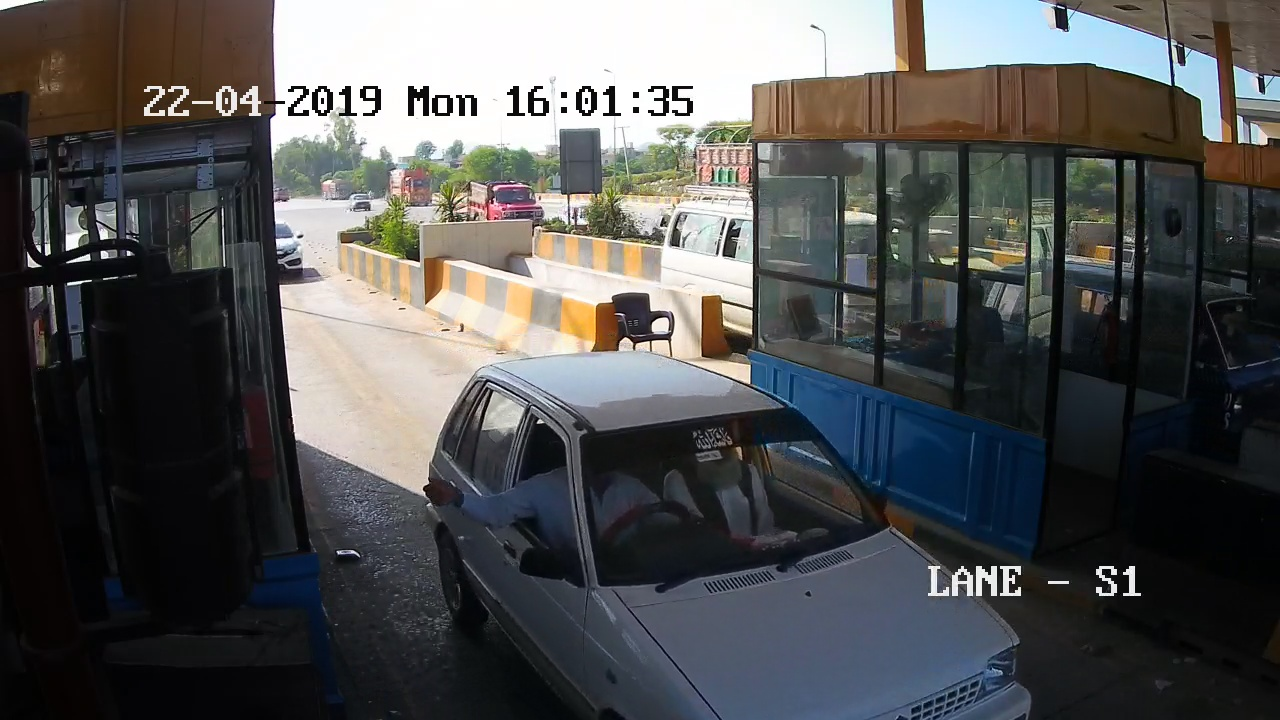car: (416, 350, 908, 720)
